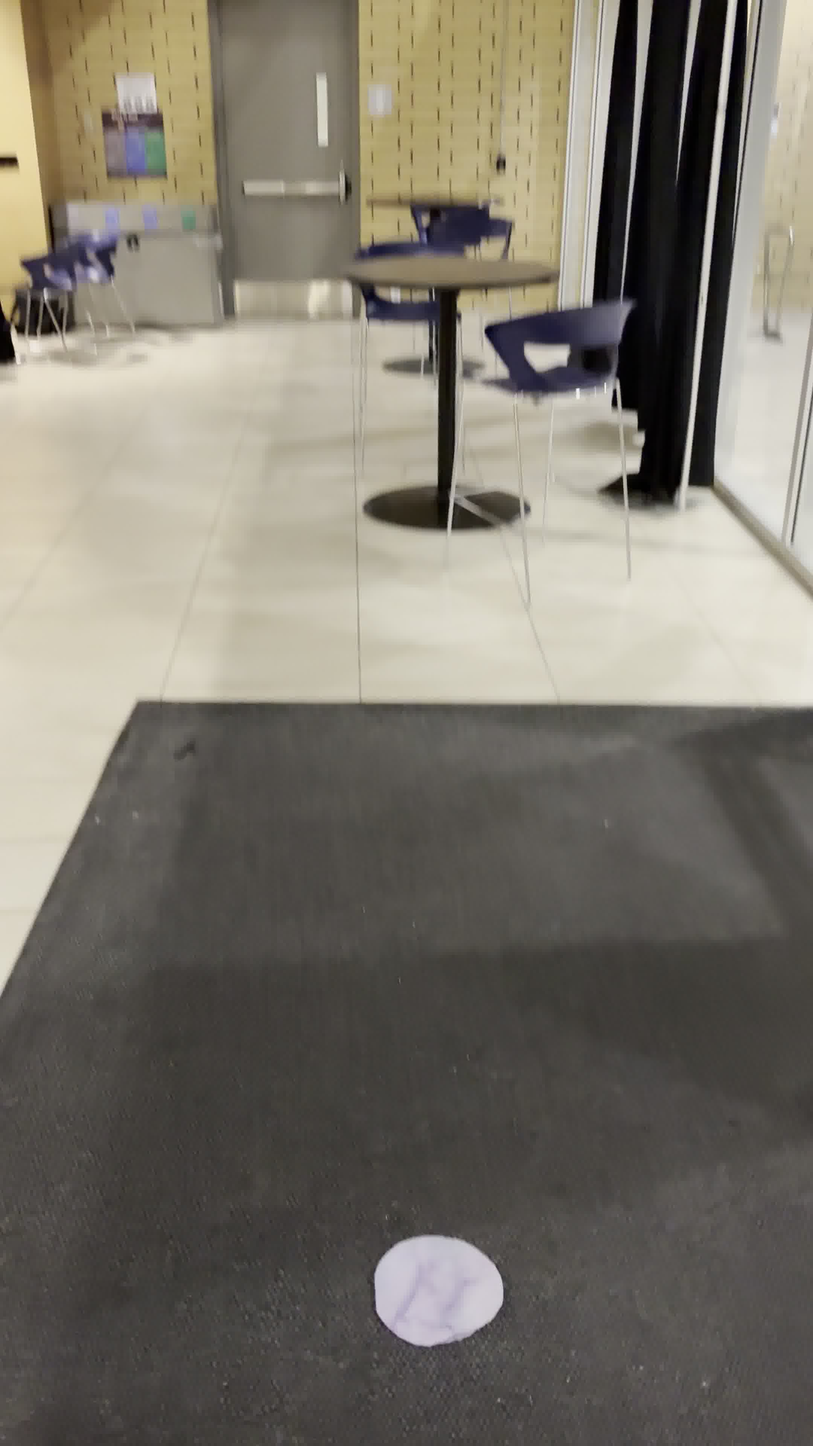Target: (373, 1229, 509, 1353)
